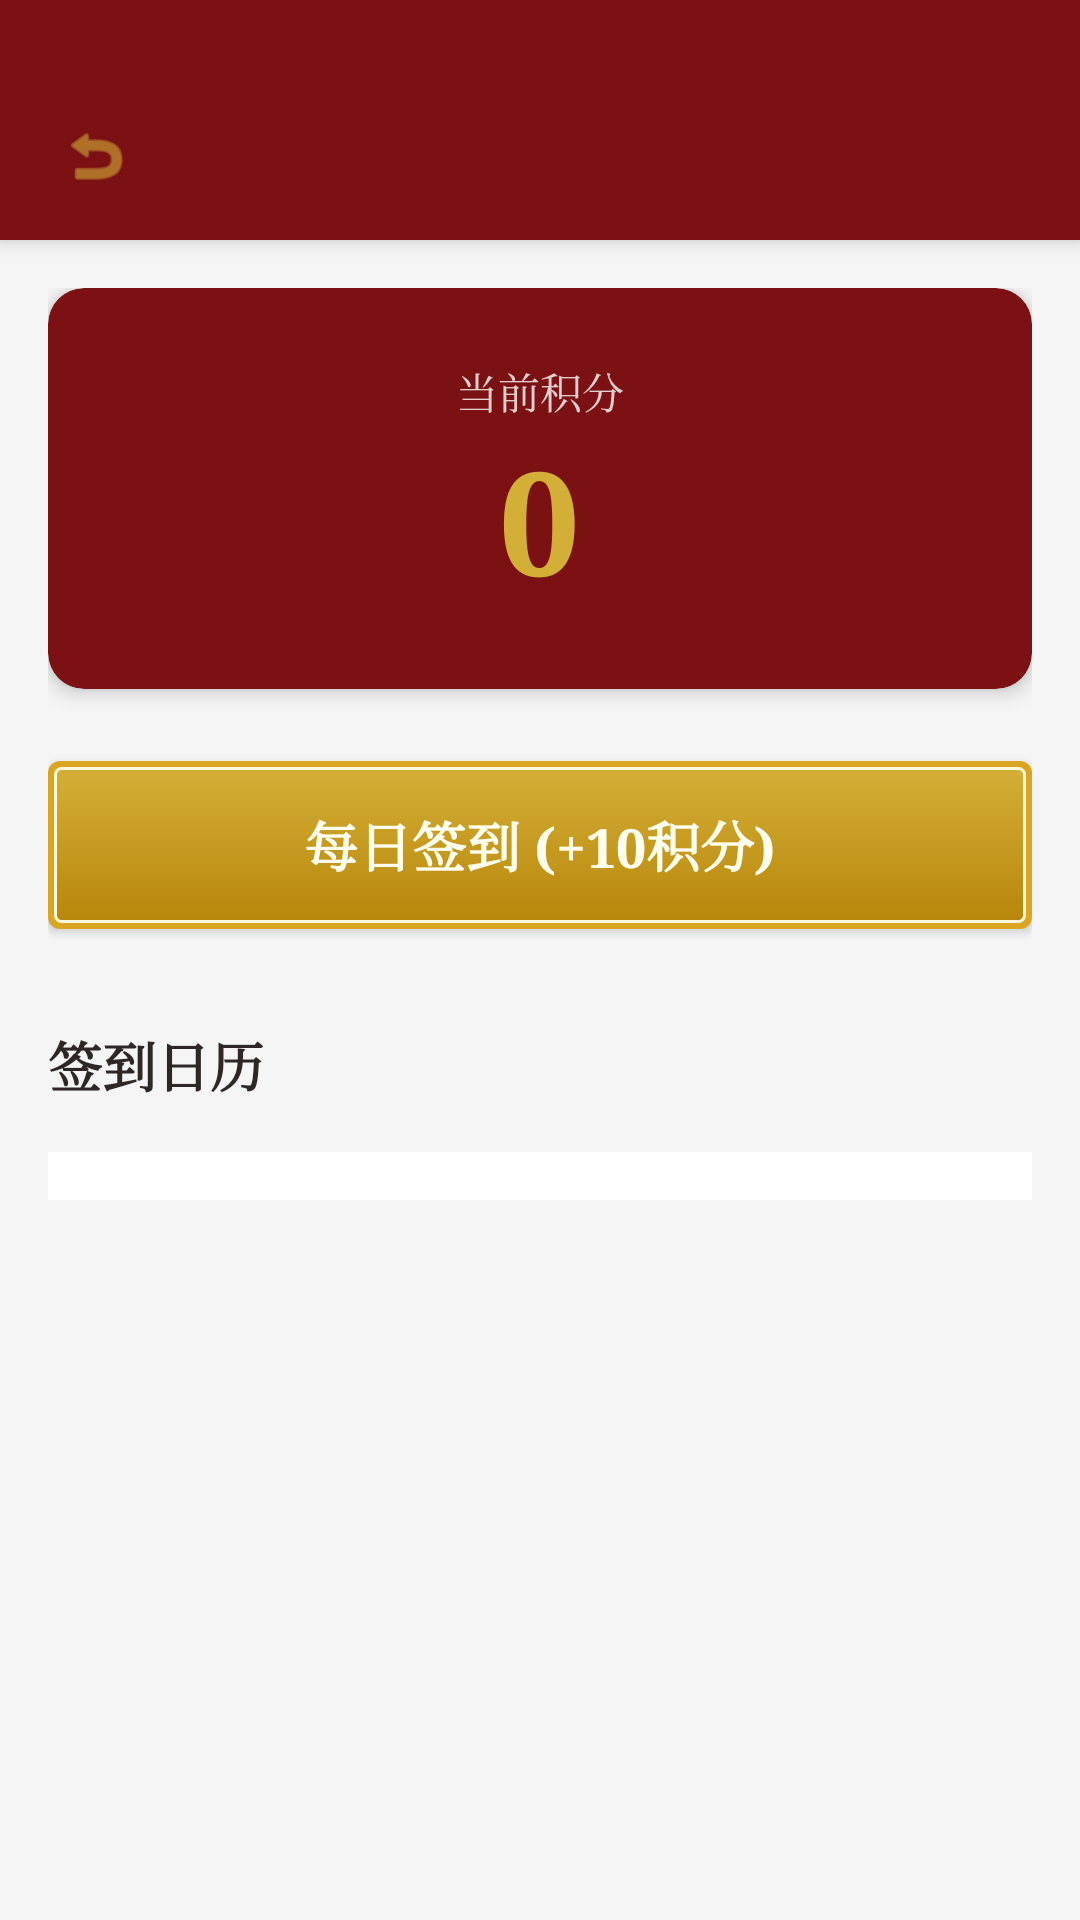

Point at icon controls on the screen. Image size 1080w x 1920h, points as (x=x, y=y).
revert: (x=97, y=156)
